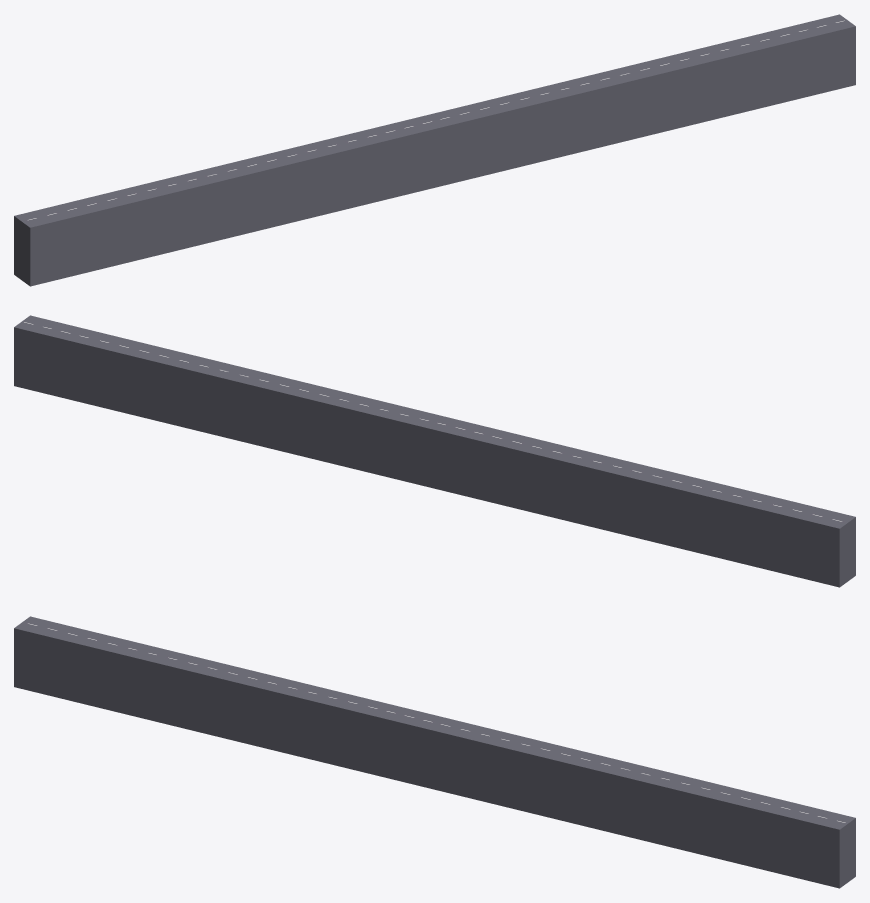
Rendered from road_6.gltf.
3 renders of one model, top to bottom at view 1: azimuth 30°, elevation 25°; view 2: azimuth 150°, elevation 25°; view 3: azimuth 330°, elevation 25°, orthographic.
Parts seen in each view (by area): view 1: road; view 2: road; view 3: road.
Part boxes in pixels (box(x1,y1,x2,y2)): road: box(14, 14, 855, 286); road: box(14, 315, 855, 587); road: box(14, 616, 855, 888).
Bounding box in the file's own units: 35.84 × 2.44 × 1.22.
1 material, 1 textured.
